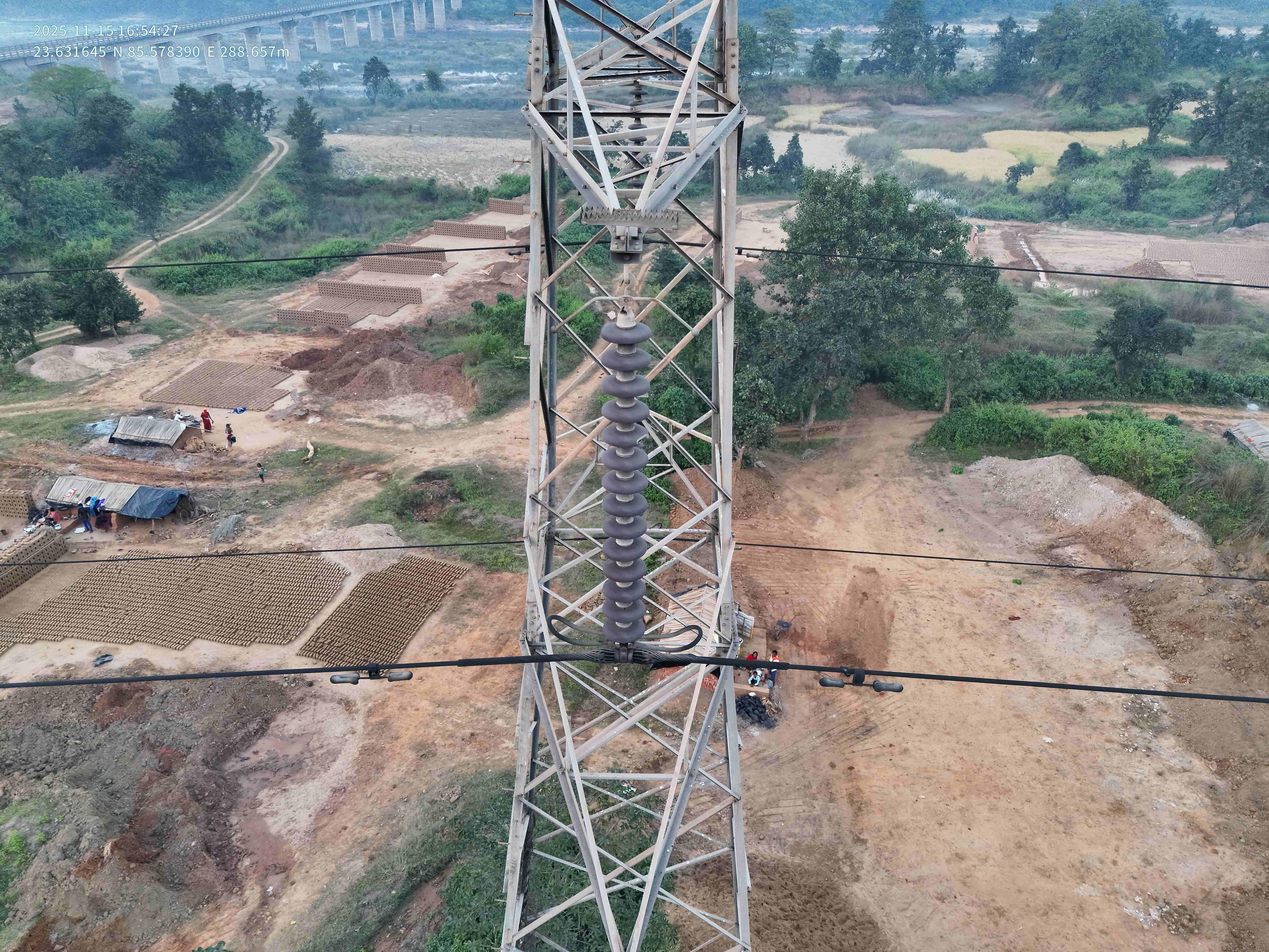broken_insulator: (598, 419, 658, 451)
